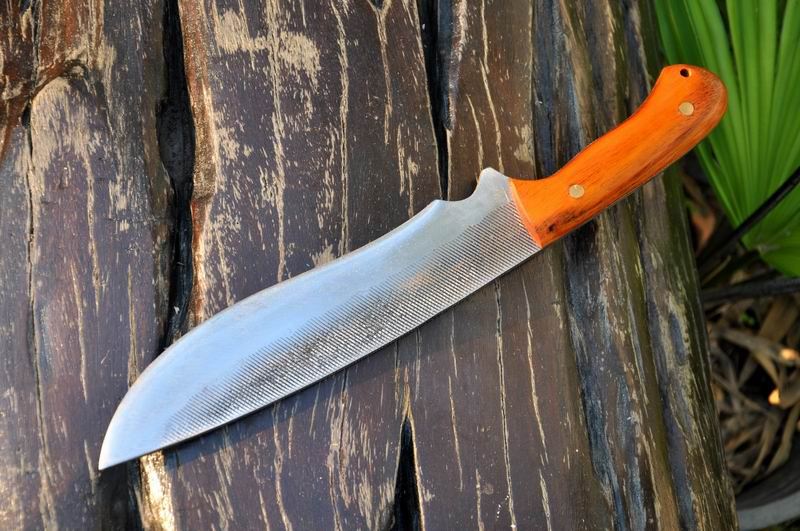knife: (91, 58, 735, 457)
